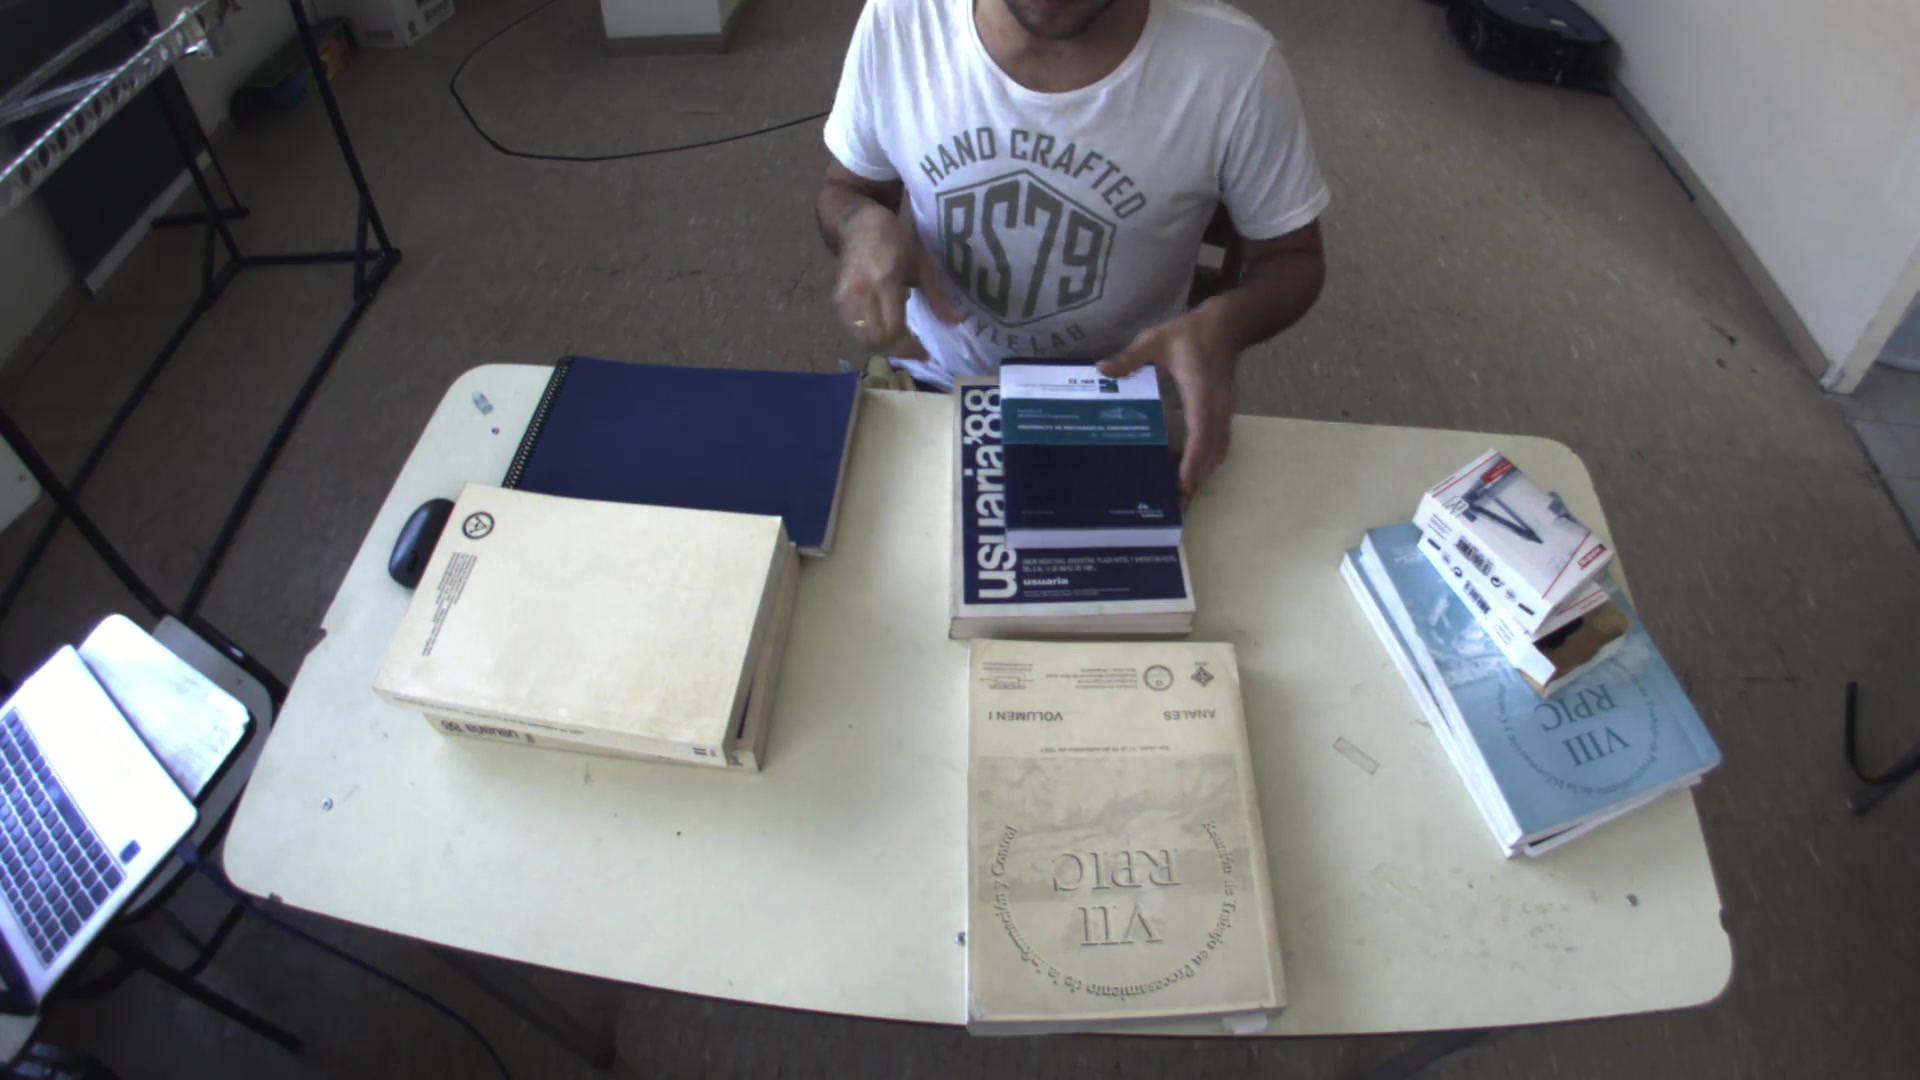hand: (1096, 287, 1255, 498), (802, 171, 932, 356)
